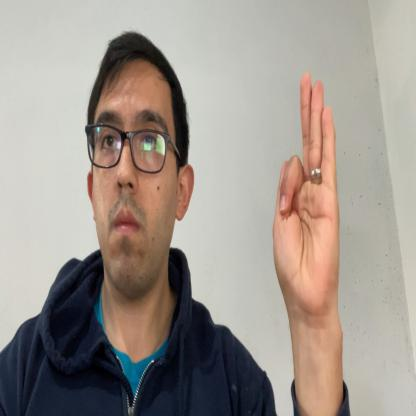F: (272, 72, 340, 319)
